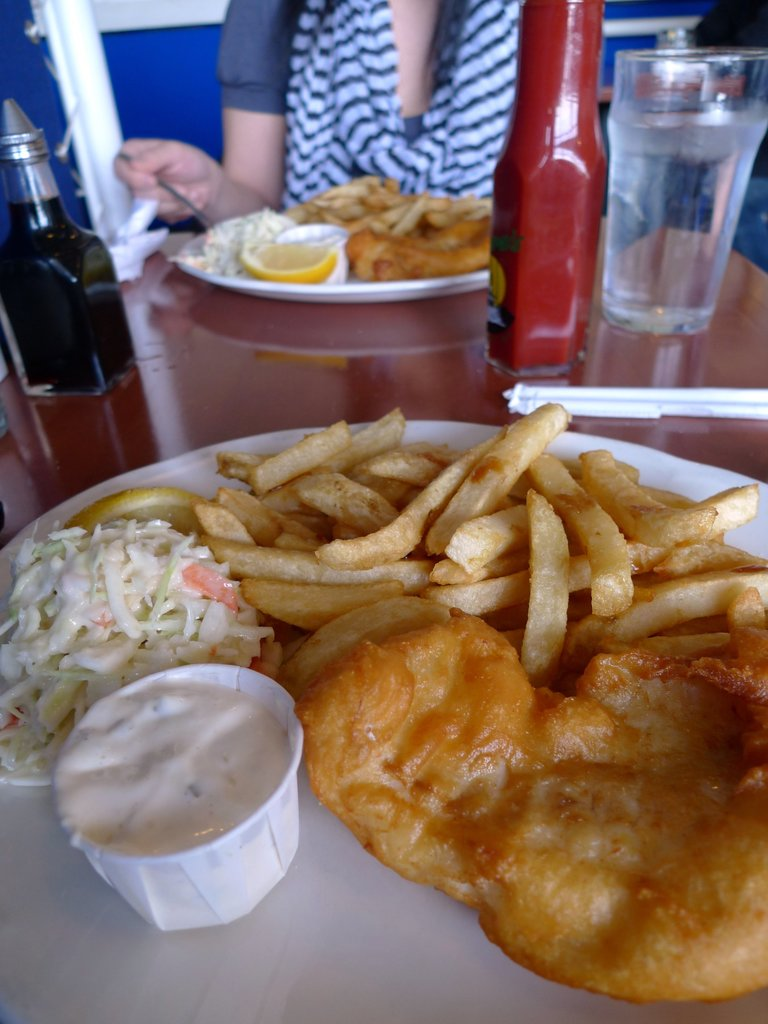French fries: (149, 396, 703, 676), (288, 173, 497, 238)
